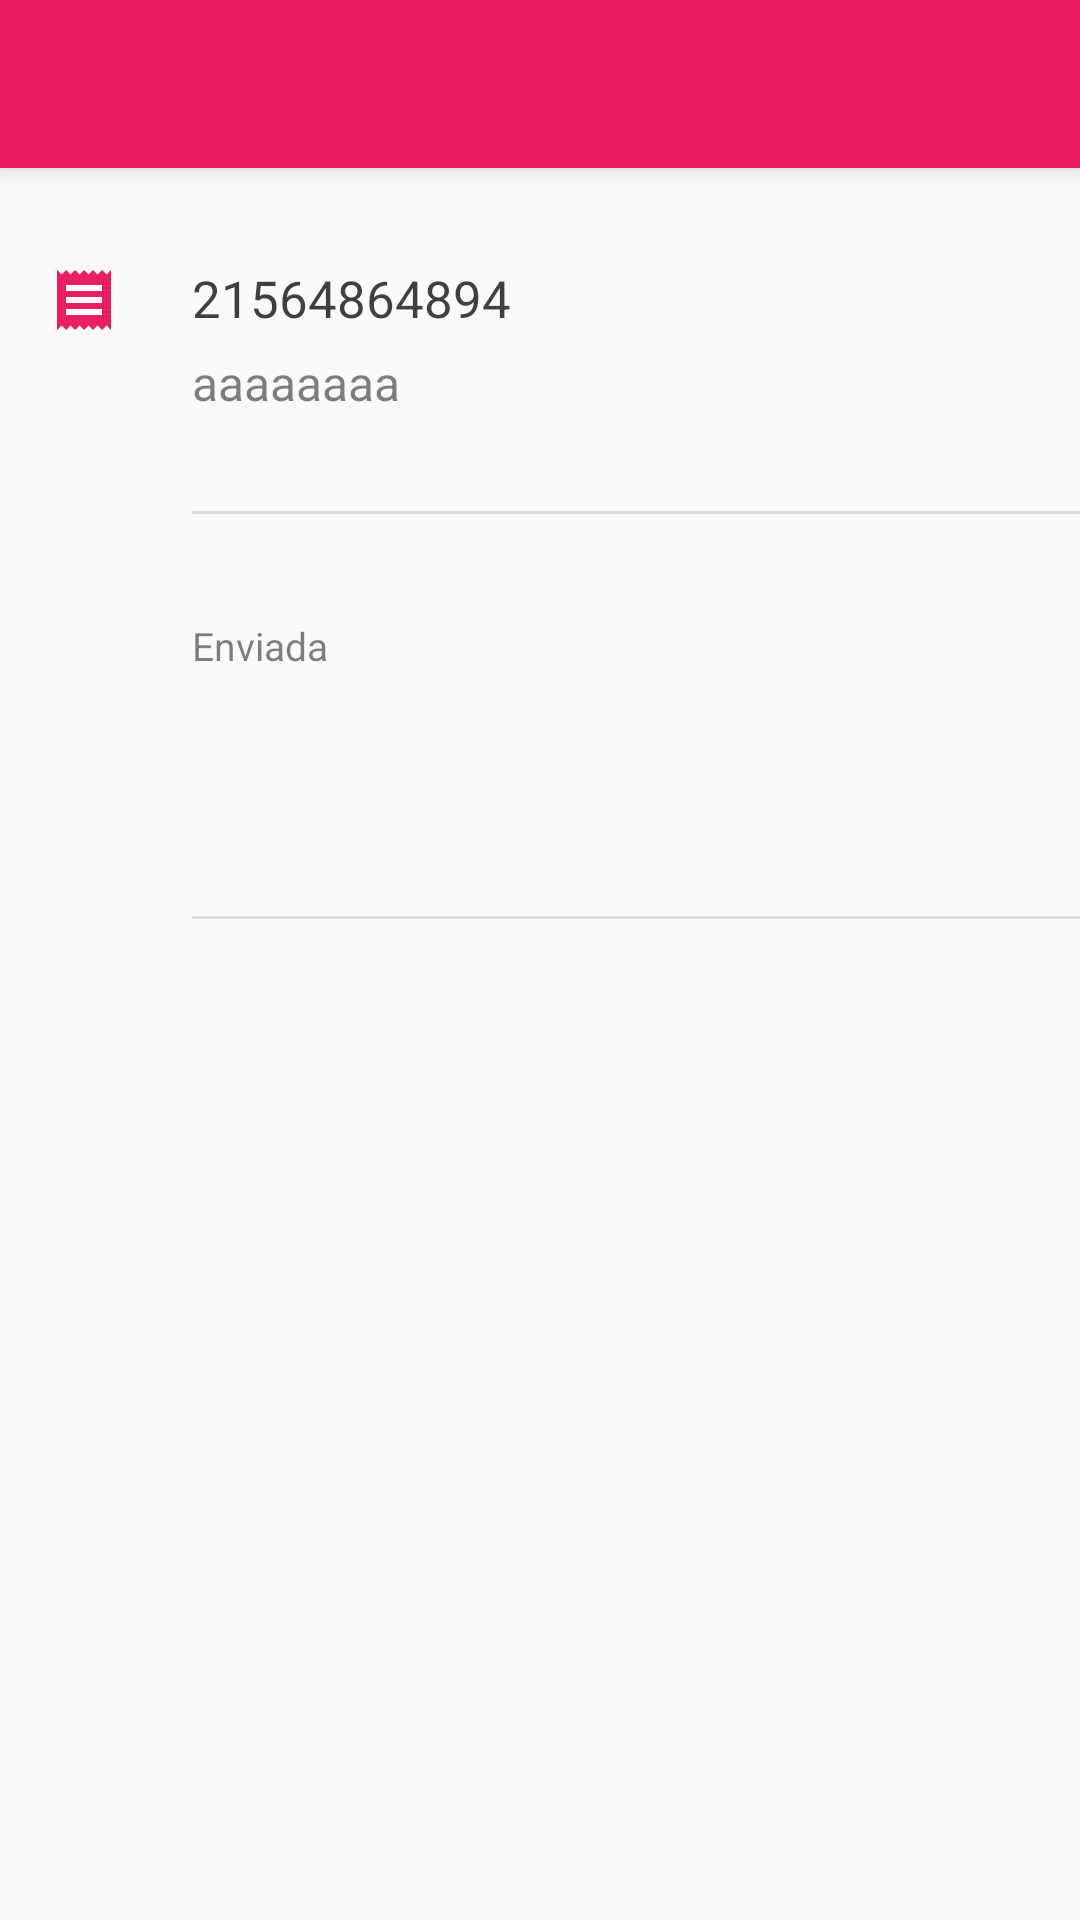

Icons on this 1080x1920 Android screen, each with the point to tap as point (x, y):
receipt: point (84, 300)
